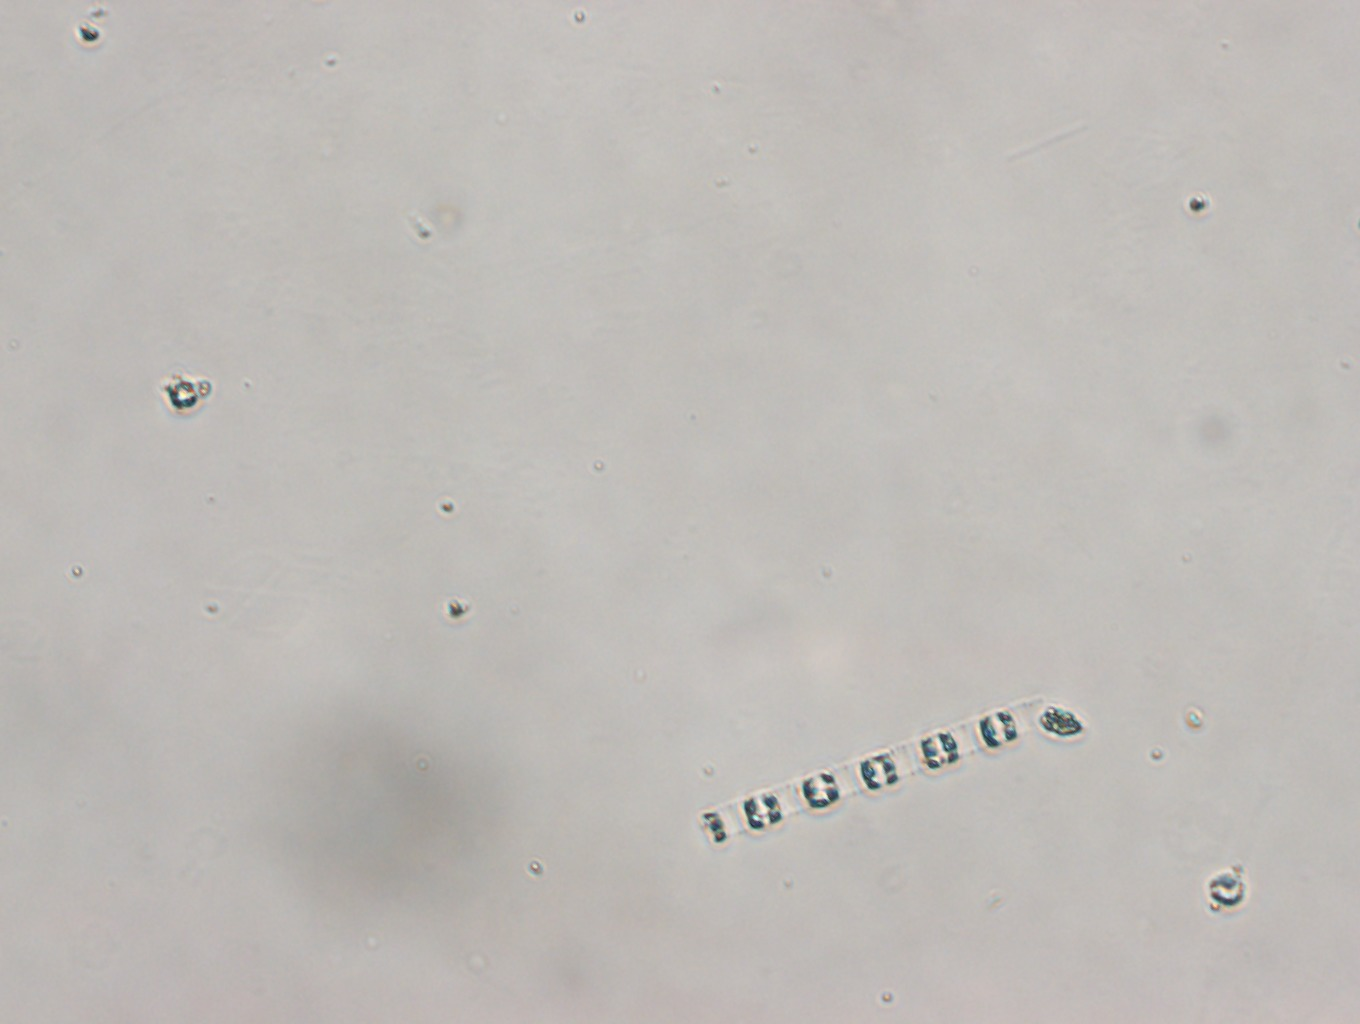skeletonema: (688, 692, 1037, 849)
